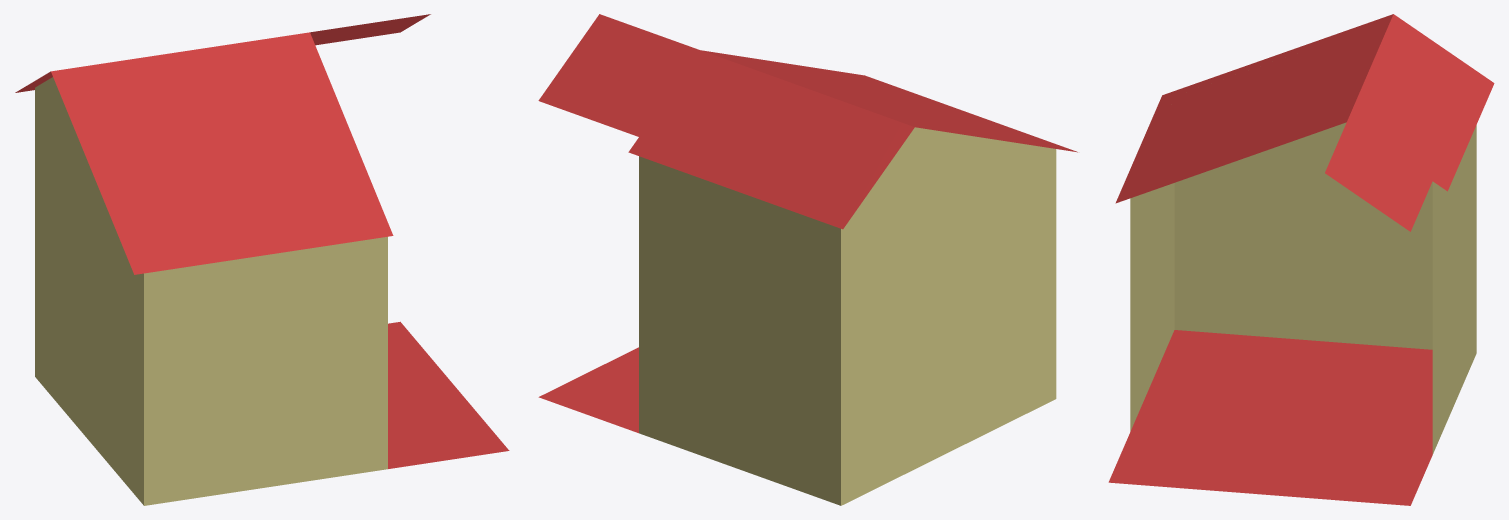
The picture shows the model from 3 angles, left to right: view 1: azimuth 30°, elevation 25°; view 2: azimuth 150°, elevation 25°; view 3: azimuth 270°, elevation 25°; orthographic projection. The views are drawn at different scales.
Bounding box in the file's own units: 14.19 × 12.61 × 11.75.
